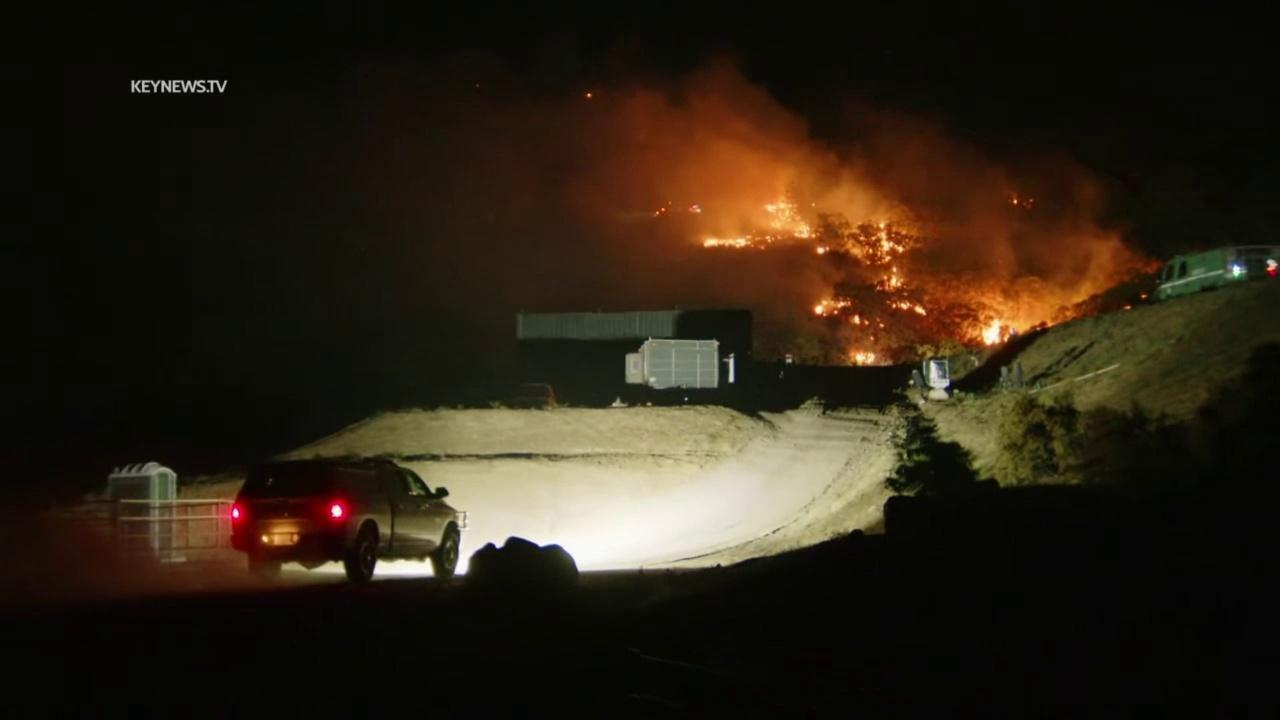fire: (762, 198, 825, 241), (859, 220, 906, 265), (810, 295, 853, 317), (884, 297, 928, 317), (873, 266, 907, 291), (703, 235, 755, 251), (980, 318, 1002, 346), (853, 348, 878, 366), (687, 204, 704, 215), (814, 245, 831, 256), (847, 312, 861, 325), (1139, 293, 1149, 300), (584, 92, 594, 99), (1012, 197, 1019, 206), (1123, 304, 1132, 310), (864, 319, 871, 326), (879, 323, 885, 329), (870, 336, 875, 341)
smoke: (435, 49, 1154, 332)
